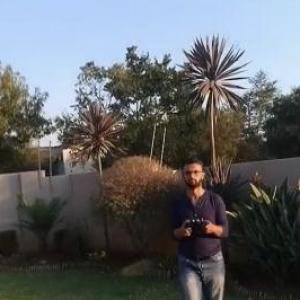follow: (166, 136, 233, 299)
